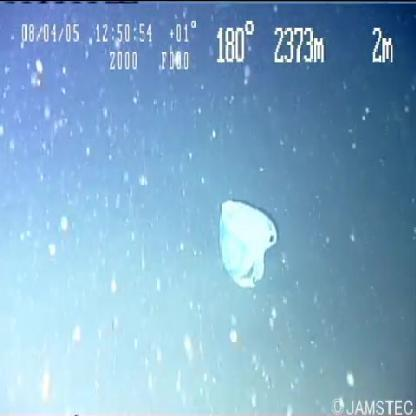Rác: (215, 201, 279, 291)
